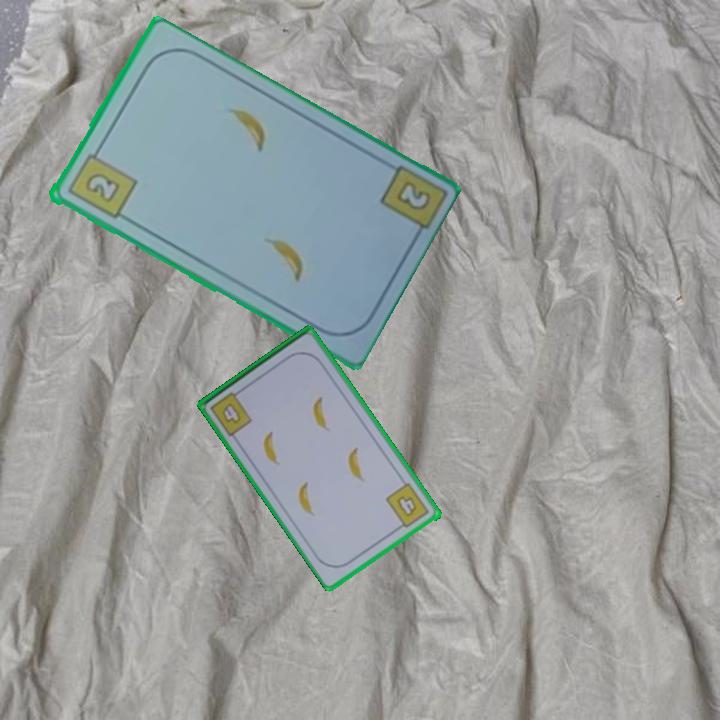2b: (63, 144, 139, 222), (392, 177, 430, 214)
4b: (382, 480, 433, 533), (219, 399, 245, 427)
